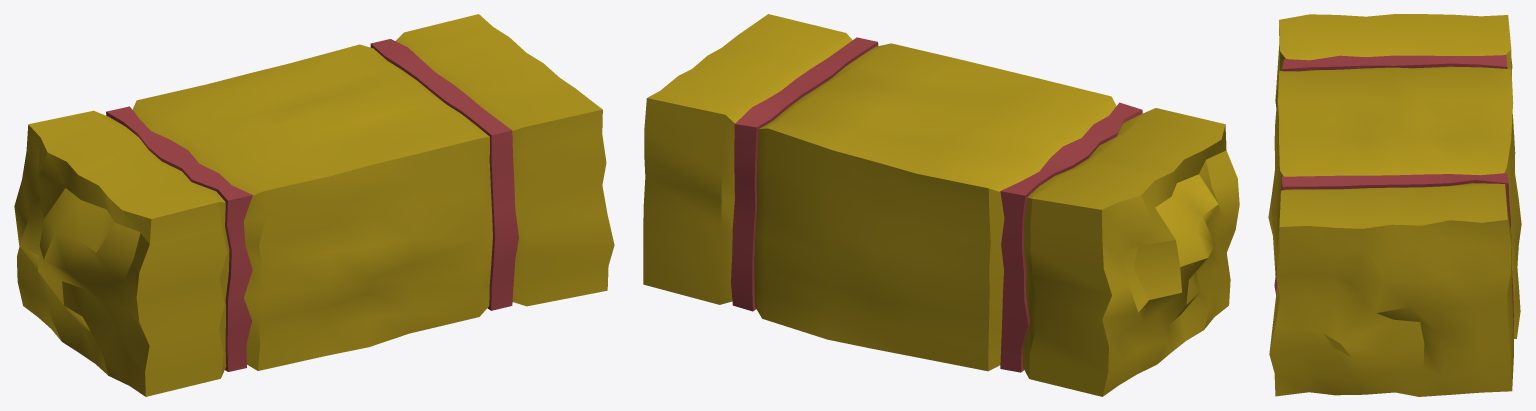
Rendered from Haybale.fbx.
3 renders of one model, left to right at view 1: azimuth 30°, elevation 25°; view 2: azimuth 150°, elevation 25°; view 3: azimuth 270°, elevation 25°, orthographic. The views are drawn at different scales.
Parts seen in each view (by area): view 1: Cube.001; view 2: Cube.001; view 3: Cube.001.
Part boxes in pixels (x1,y1,x2,y2): Cube.001: (14,14,614,396); Cube.001: (643,14,1239,396); Cube.001: (1268,14,1521,396).
Size of the model in its own units: 478 by 169 by 219.
